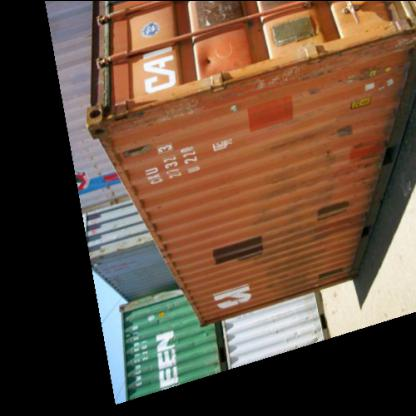Damage: (92, 82, 250, 128), (256, 42, 402, 80), (309, 135, 351, 173)
